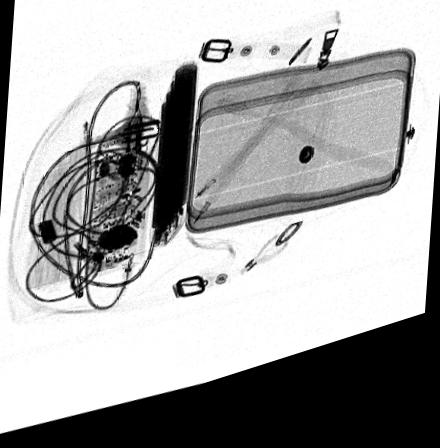Powerbank: (148, 71, 198, 257)
